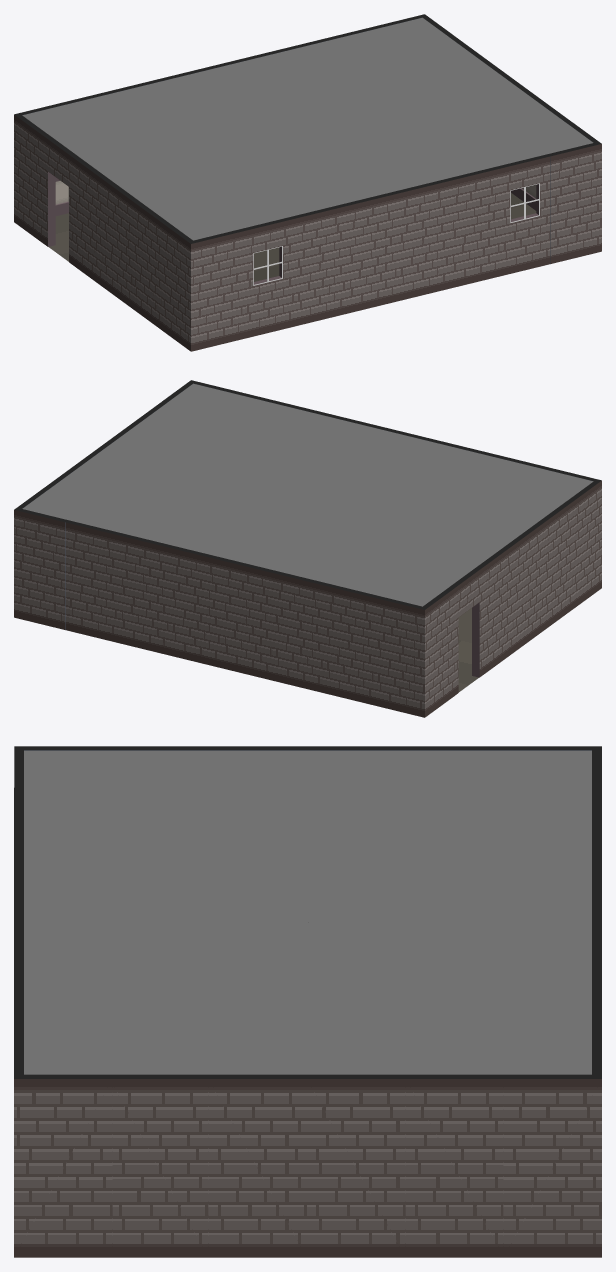
The model's file is new_room_4.glb.
3 renders of one model, top to bottom at view 1: azimuth 30°, elevation 25°; view 2: azimuth 150°, elevation 25°; view 3: azimuth 270°, elevation 25°, orthographic. The views are drawn at different scales.
Visible parts, largest first — view 1: Plane.002_Material.064_0.001; view 2: Plane.002_Material.064_0.001; view 3: Plane.002_Material.064_0.001.
Boxes of the visible parts, x1=… form: Plane.002_Material.064_0.001: x1=14, y1=14, x2=601, y2=351; Plane.002_Material.064_0.001: x1=14, y1=380, x2=601, y2=717; Plane.002_Material.064_0.001: x1=14, y1=746, x2=601, y2=1257.
Size of the model in its own units: 79.8 by 20 by 59.6.
51 materials, 44 textured.
